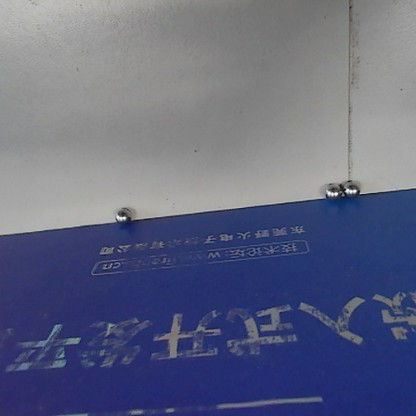ironball: (112, 203, 133, 226), (341, 176, 362, 198), (323, 179, 342, 200)
